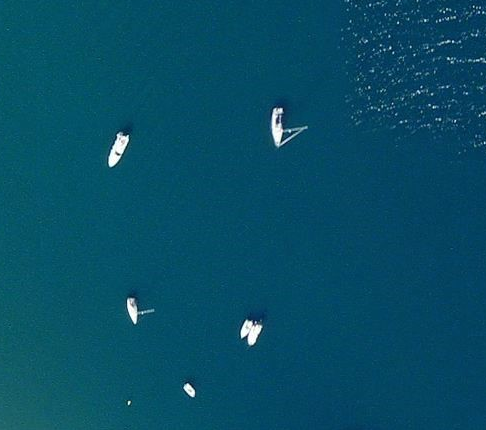ship: (266, 107, 313, 152), (234, 315, 270, 351), (122, 296, 158, 329), (107, 131, 133, 173), (178, 381, 202, 401)
